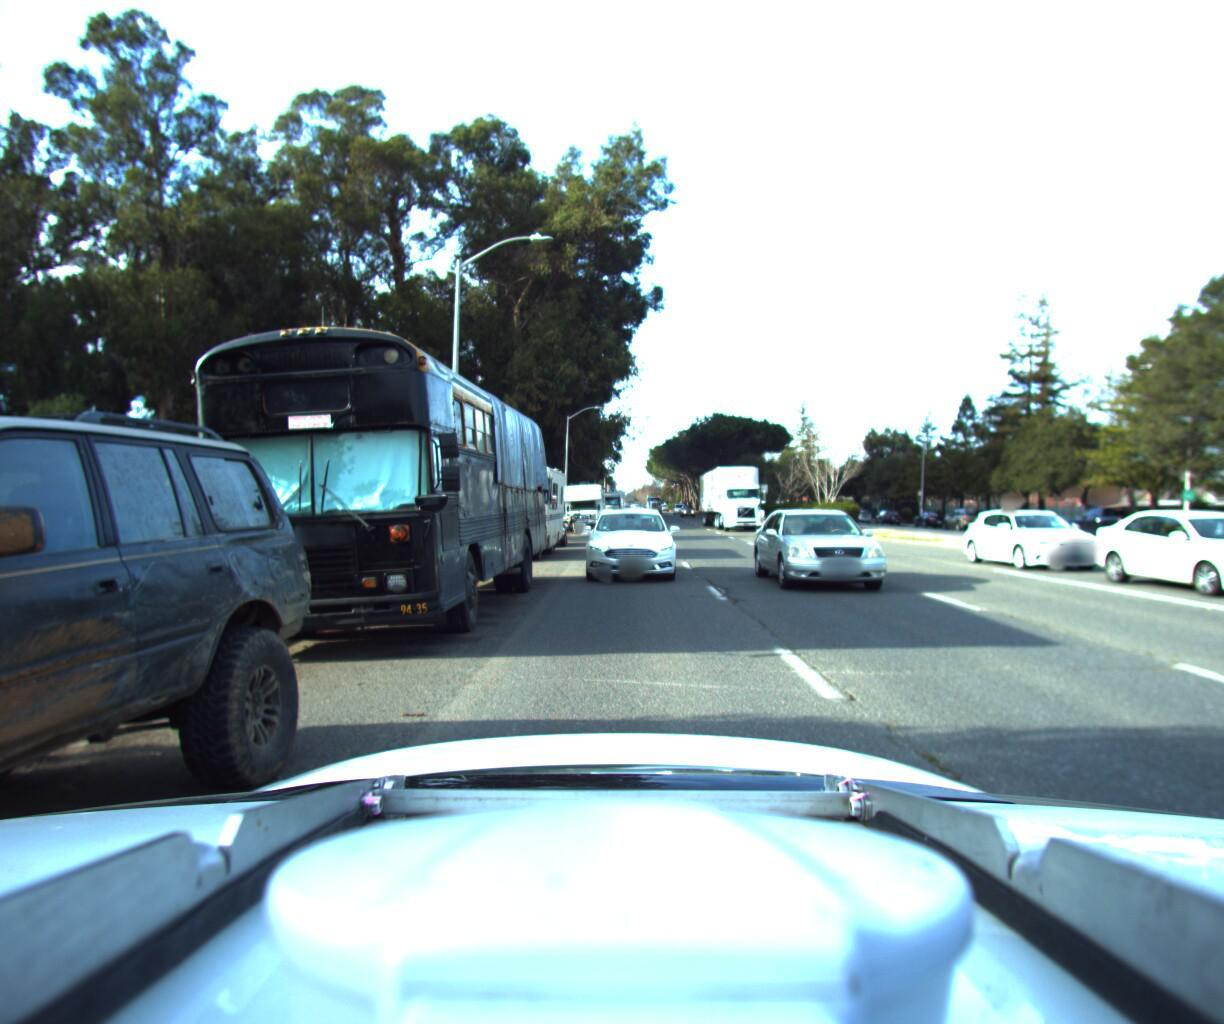bus: (128, 313, 555, 677)
car: (0, 140, 322, 1024), (754, 501, 914, 602), (1074, 502, 1224, 606), (953, 496, 1117, 569), (573, 502, 671, 584), (518, 503, 570, 548), (1006, 504, 1073, 533), (911, 504, 950, 524), (872, 501, 902, 518)
motorcycle: (552, 501, 583, 528)
other_vehicle: (453, 446, 569, 562), (557, 475, 608, 527)
truck: (695, 455, 775, 527)
